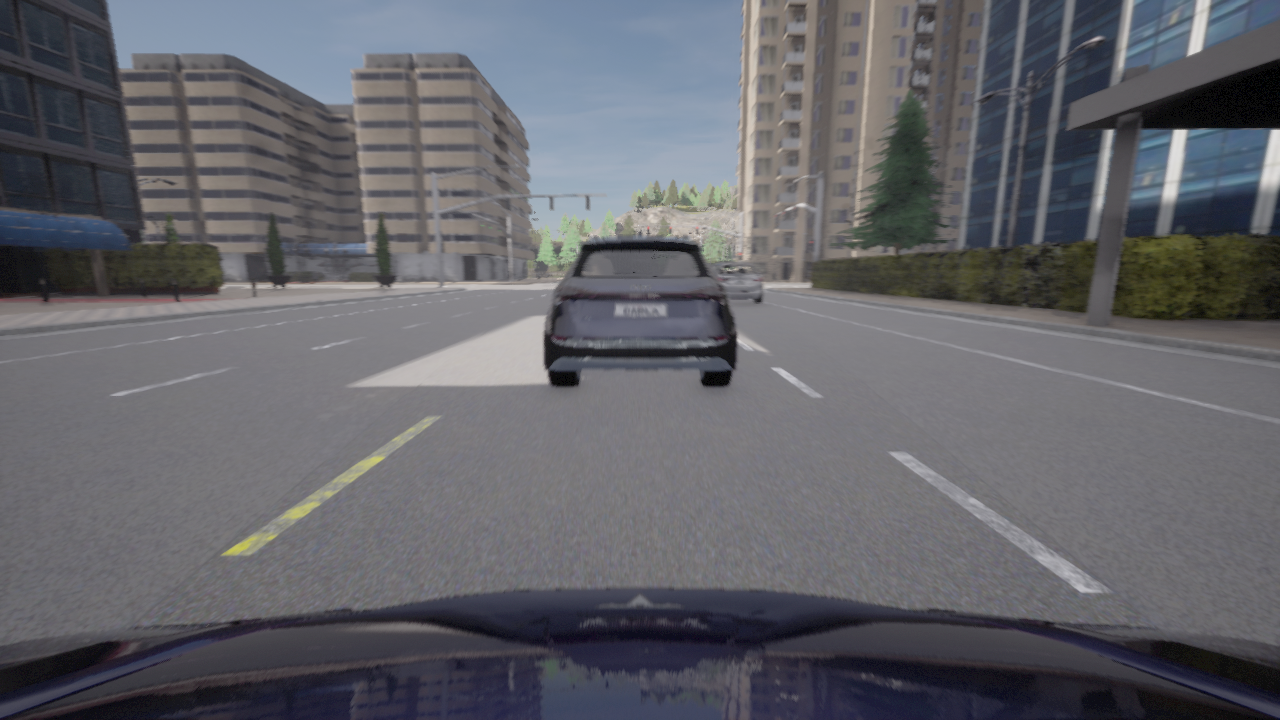cyclist: (0, 588, 1279, 719), (544, 230, 736, 388), (710, 262, 763, 302)
